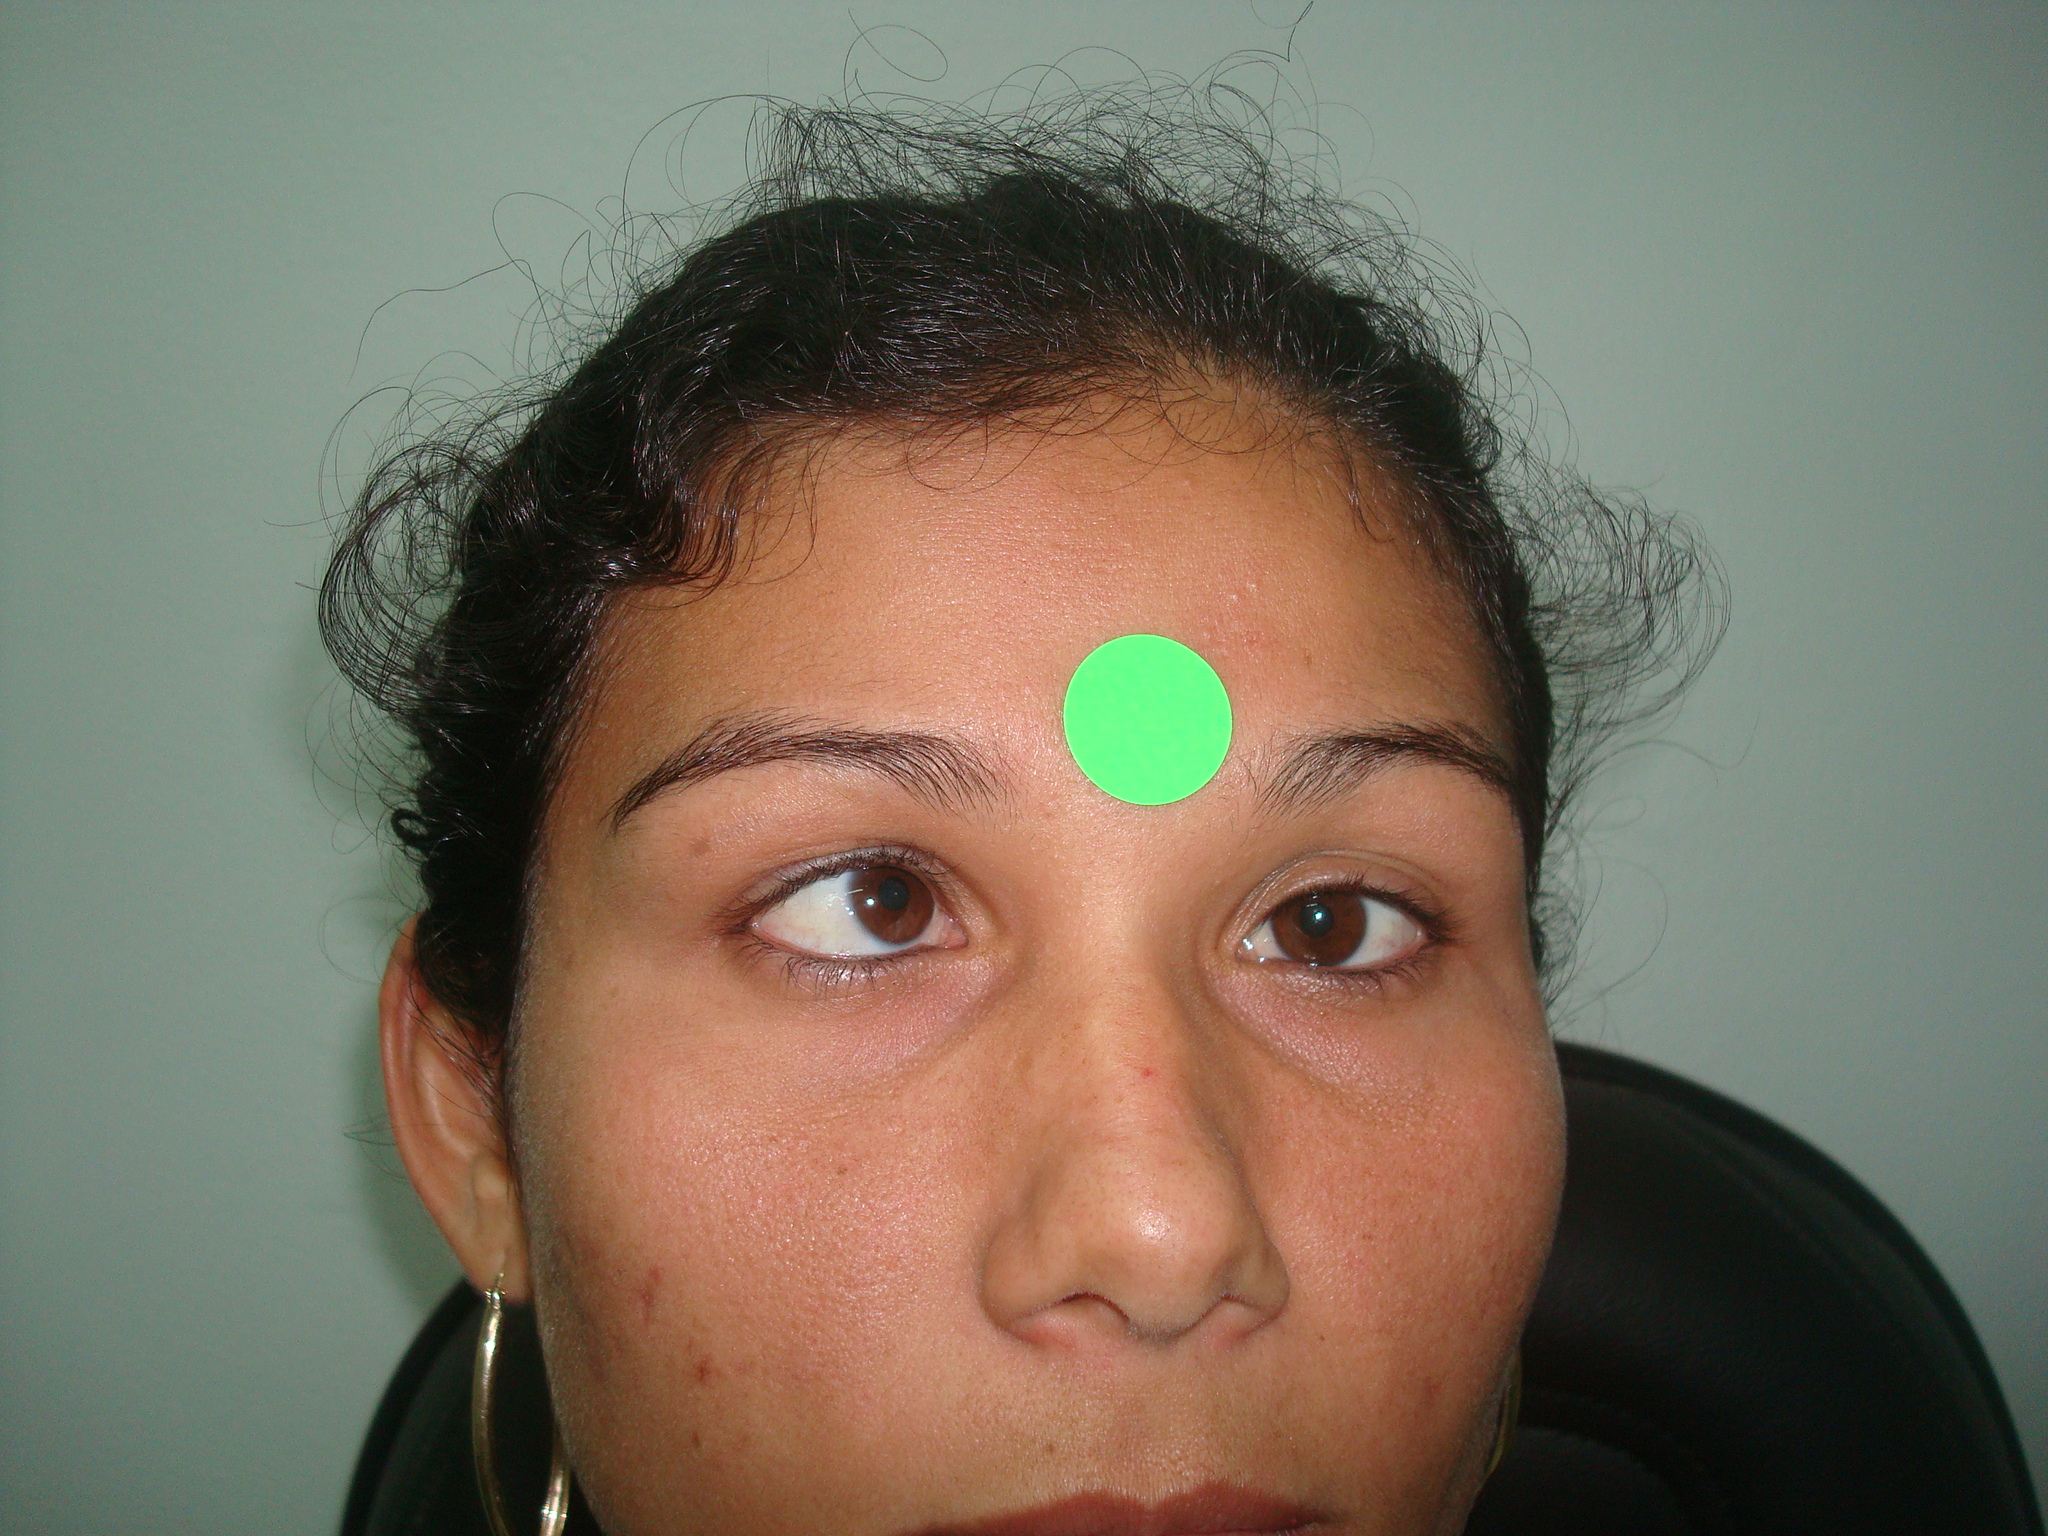flash: (1311, 908, 1326, 923), (864, 895, 877, 908)
limbo: (1268, 874, 1364, 963), (851, 854, 935, 937)
